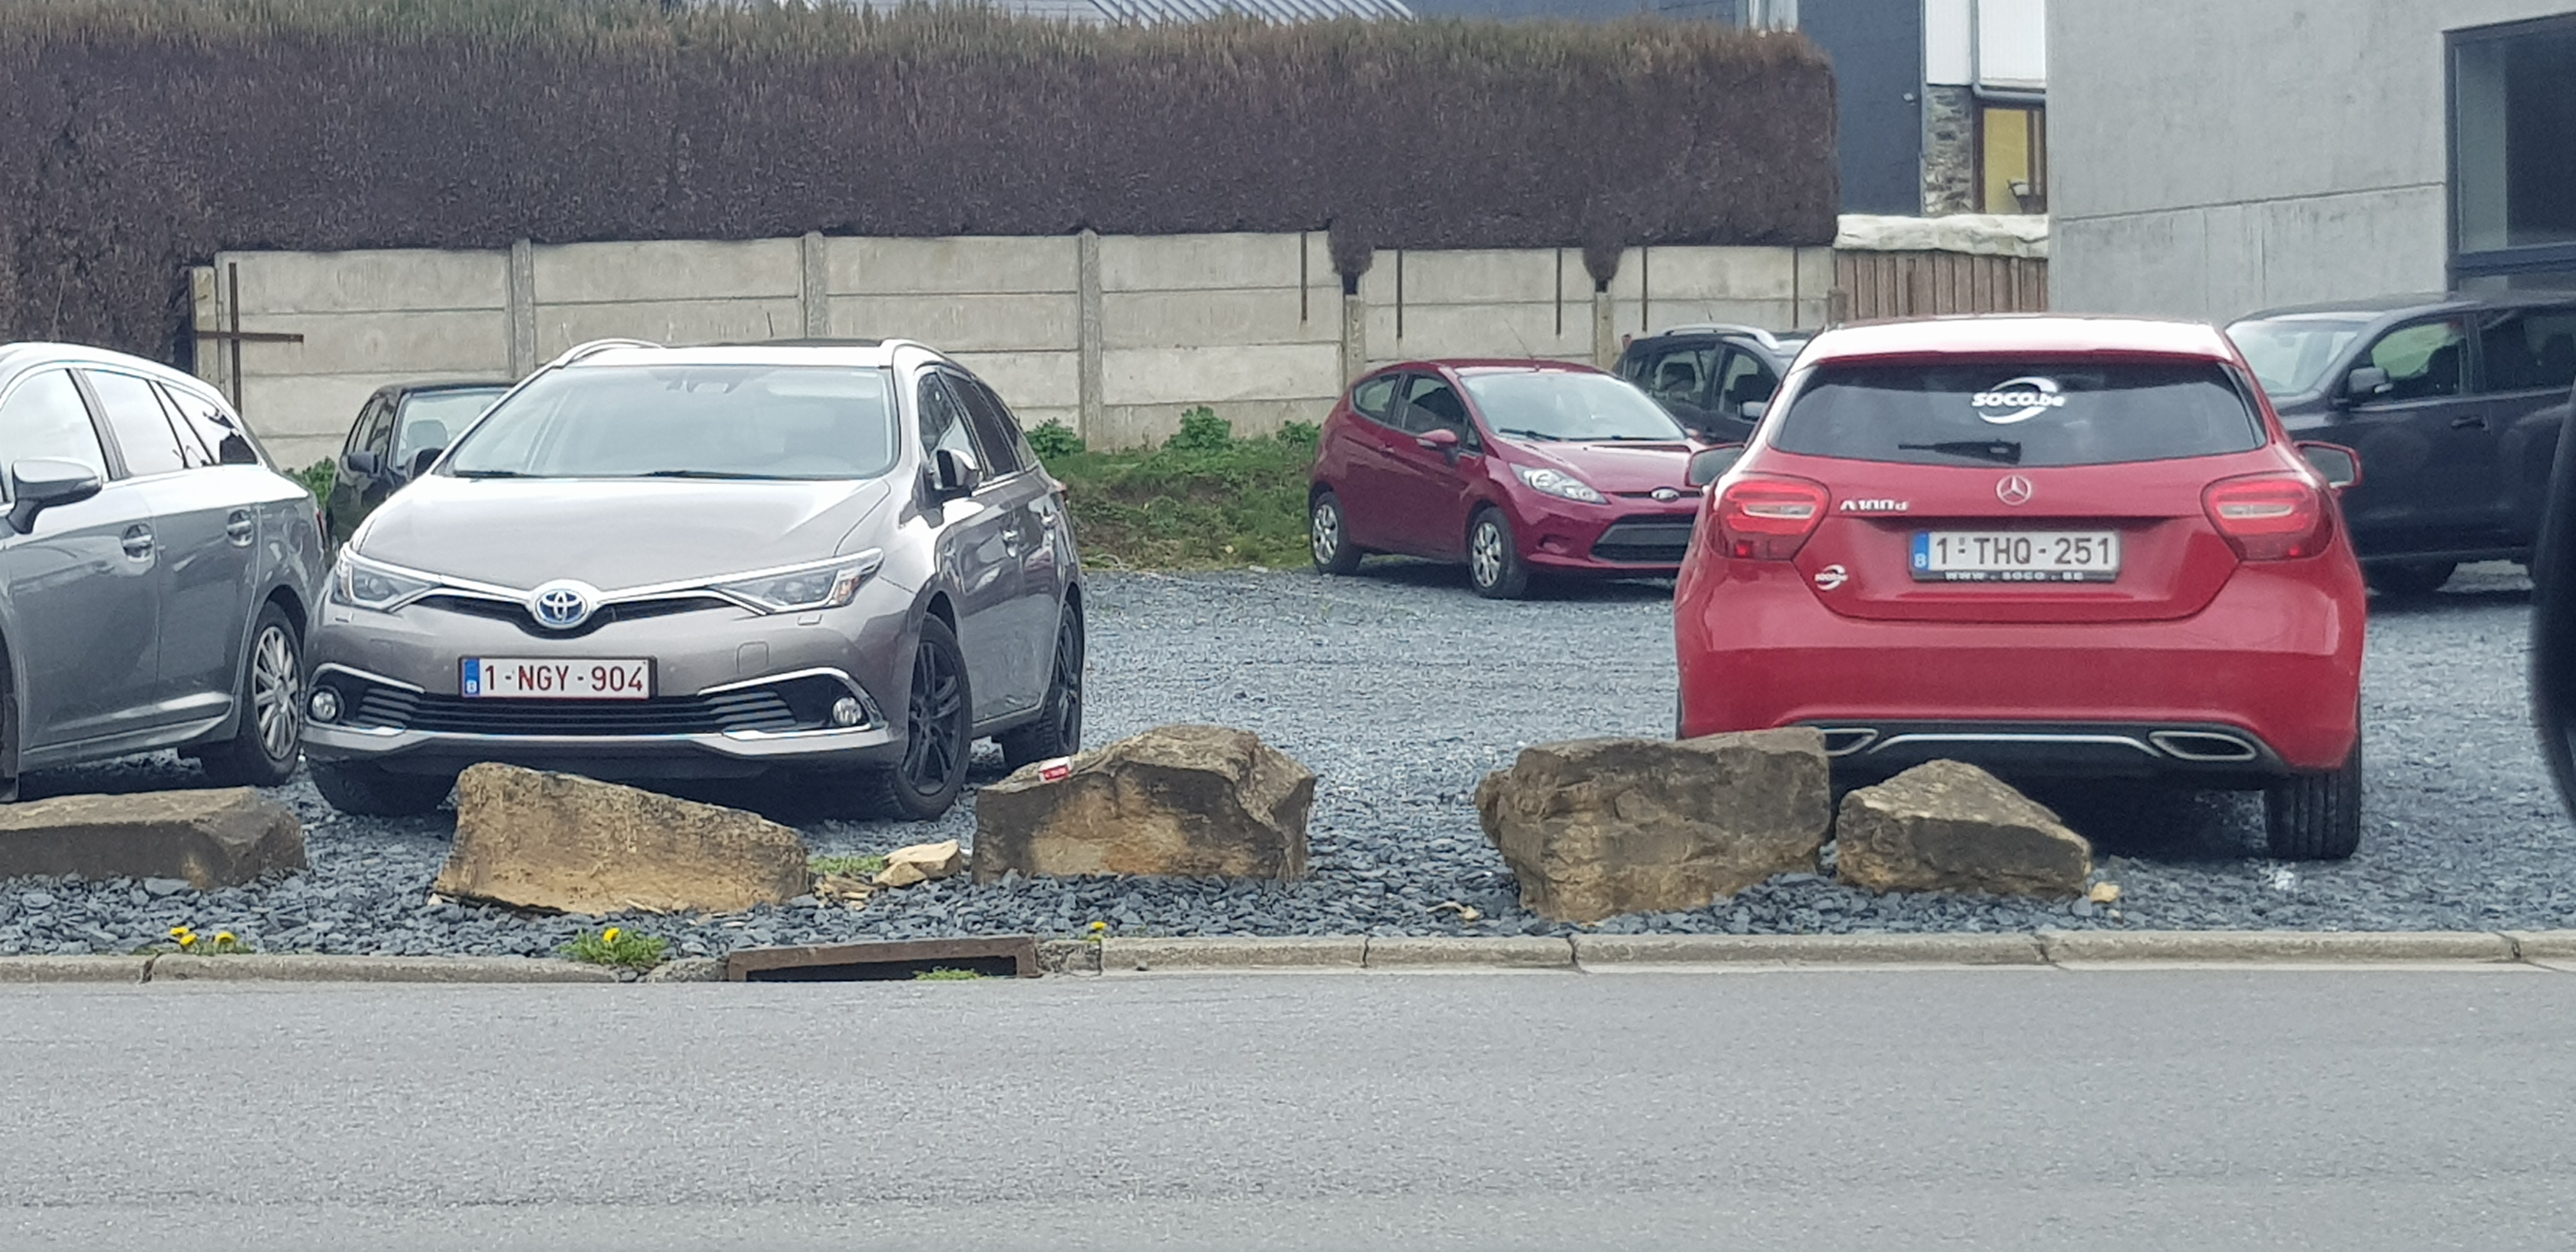licenceplate: (459, 654, 658, 704), (1911, 530, 2118, 572)
